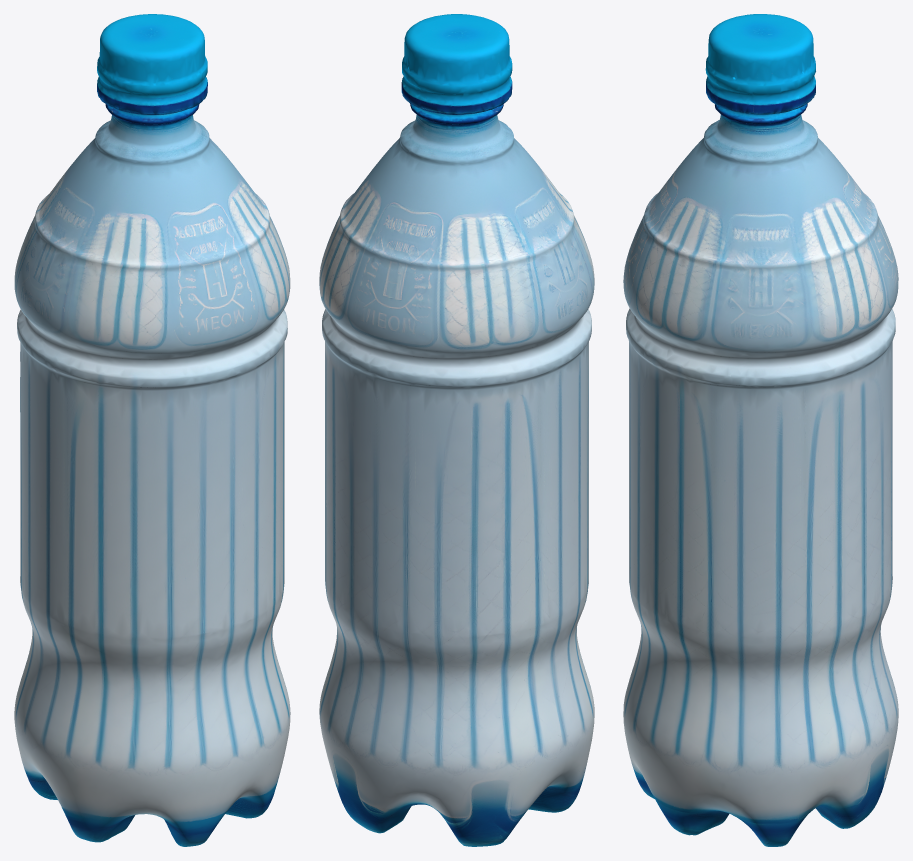
The model's file is cousin_2.glb.
3 views of the same model, side by side, from view 1: azimuth 30°, elevation 25°; view 2: azimuth 150°, elevation 25°; view 3: azimuth 270°, elevation 25° (orthographic).
Bounding box in the file's own units: 0.6184 × 1.91 × 0.6187.
1 material, 1 textured.
